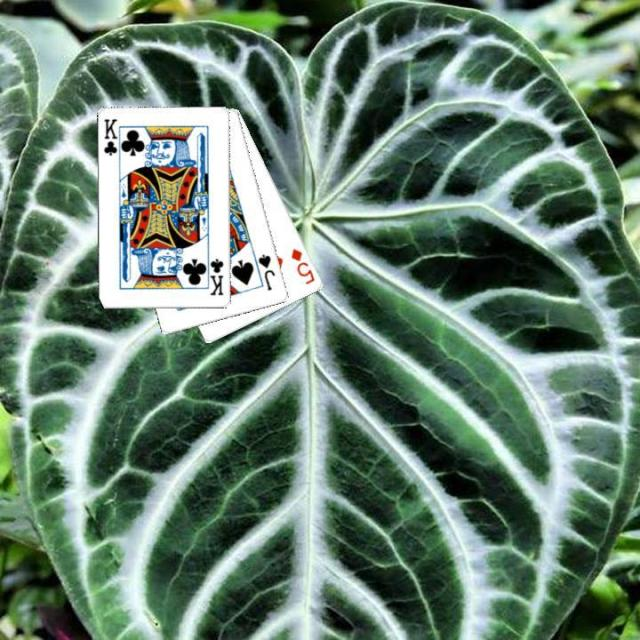5D: (287, 244, 317, 286)
JS: (255, 250, 278, 292)
KC: (100, 116, 124, 162), (202, 251, 225, 297)
